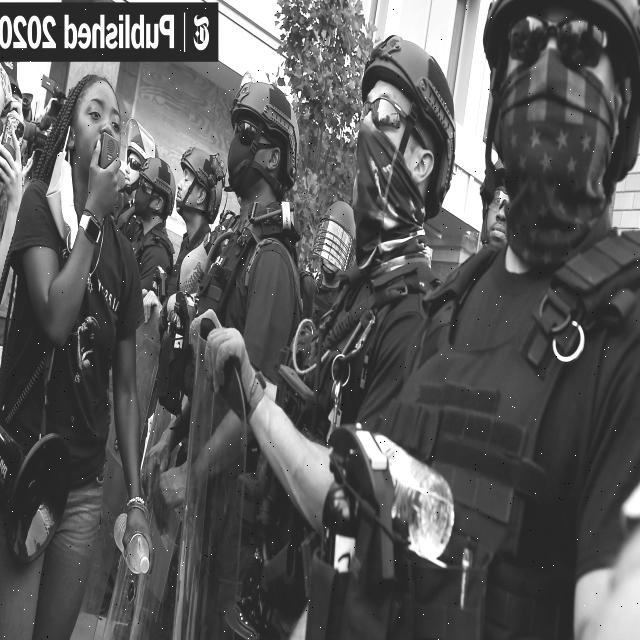police: (355, 0, 640, 640), (252, 41, 462, 577), (178, 55, 313, 524), (126, 113, 224, 560)
